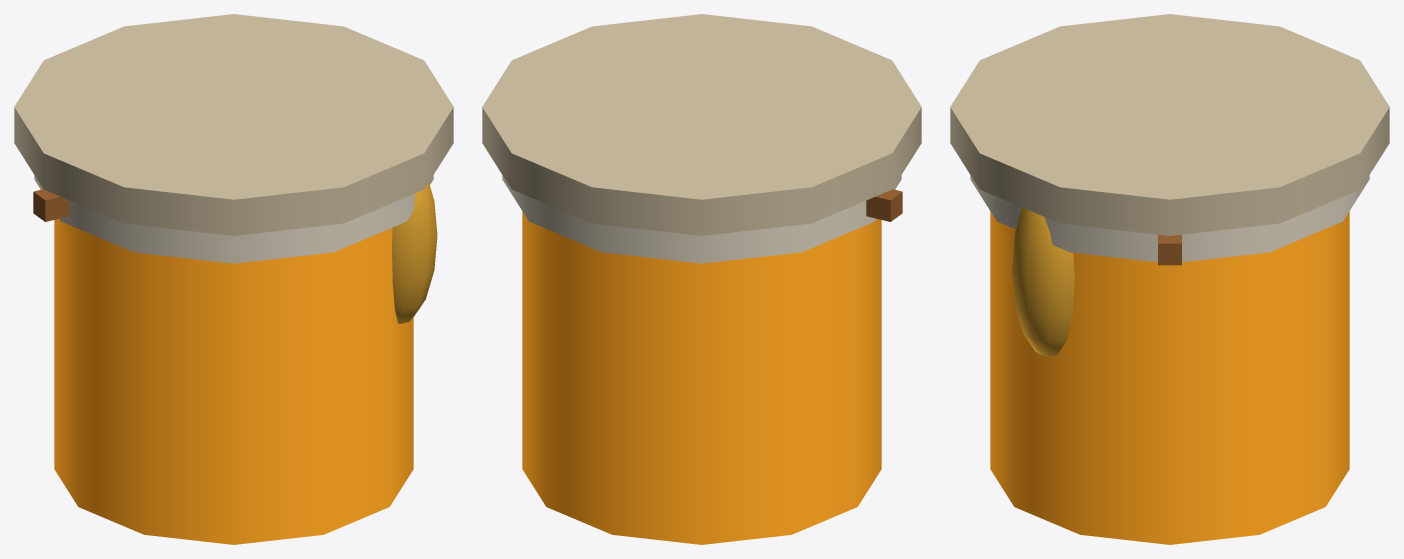
File: miel.glb
3 views of the same model, side by side, from view 1: azimuth 30°, elevation 25°; view 2: azimuth 150°, elevation 25°; view 3: azimuth 270°, elevation 25° (orthographic).
Visible parts, largest first — view 1: miel; view 2: miel; view 3: miel.
Boxes of the visible parts, x1,y1,x2,y2 form: miel: (14, 14, 453, 544); miel: (482, 14, 921, 544); miel: (950, 14, 1389, 544).
Bounding box in the file's own units: 0.225 × 0.2 × 0.22.
